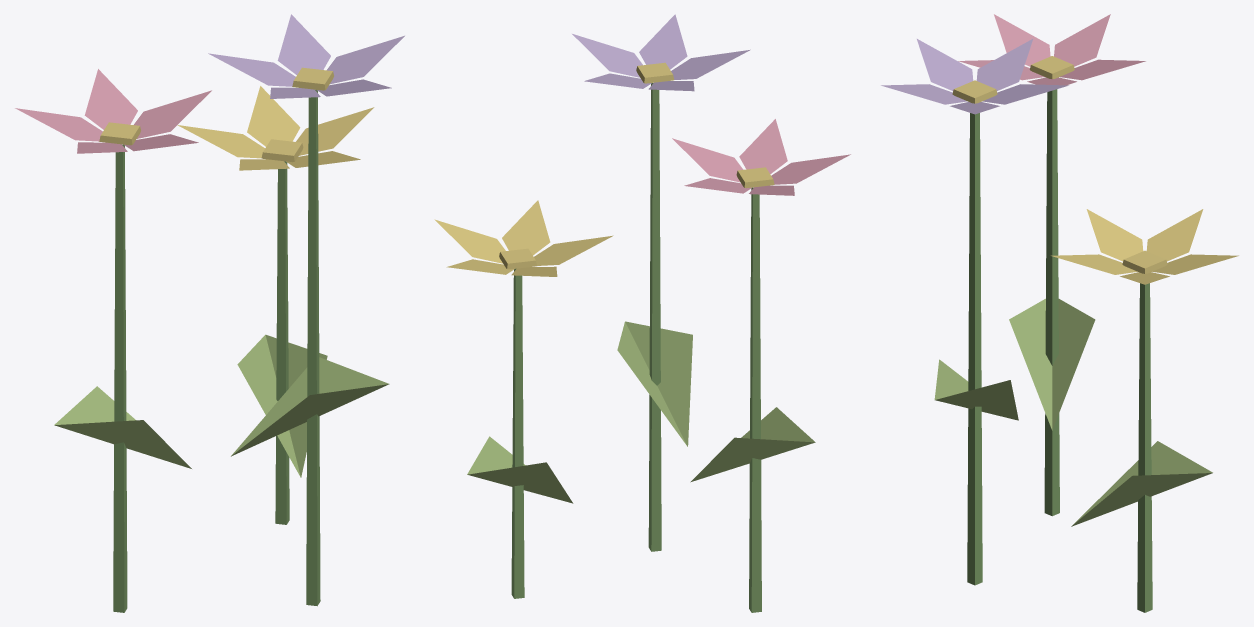
3 renders of one model, left to right at view 1: azimuth 30°, elevation 25°; view 2: azimuth 150°, elevation 25°; view 3: azimuth 270°, elevation 25°, orthographic. The views are drawn at different scales.
Visible parts, largest first — view 1: Body; view 2: Body; view 3: Body.
Boxes of the visible parts, bbox=[...] form: Body: bbox=[15, 14, 404, 612]; Body: bbox=[434, 14, 850, 612]; Body: bbox=[881, 14, 1238, 612].
Size of the model in its own units: 1.32 by 1.82 by 1.16.
